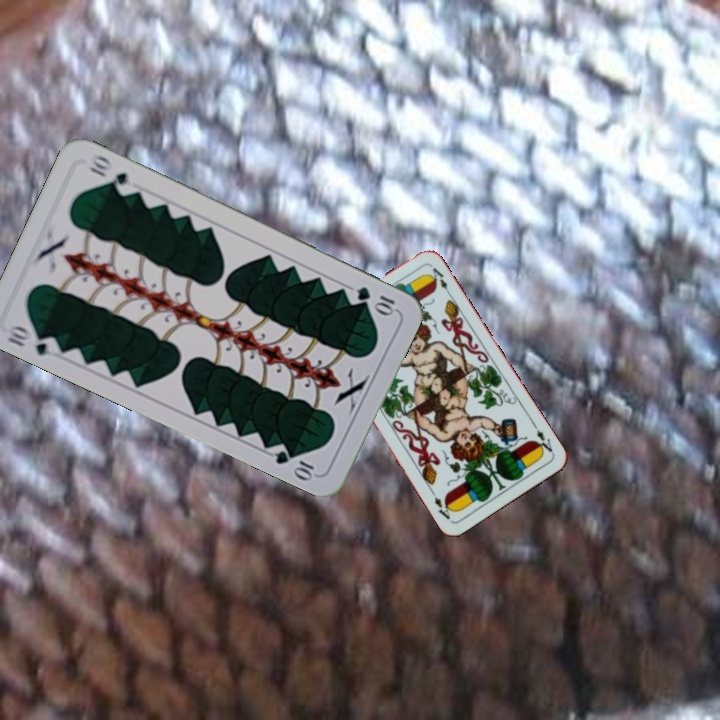EA: (529, 420, 556, 457)
G10: (3, 321, 62, 359), (351, 282, 399, 317)
